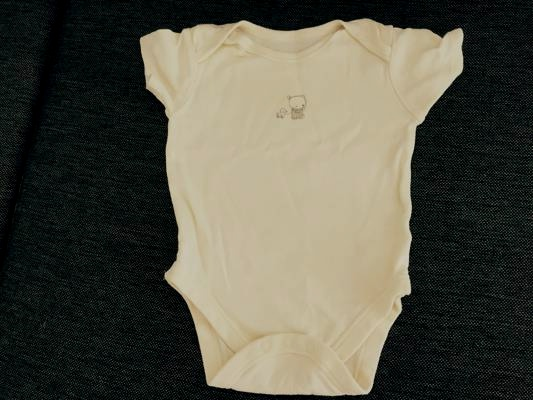Body: (116, 5, 465, 396)
